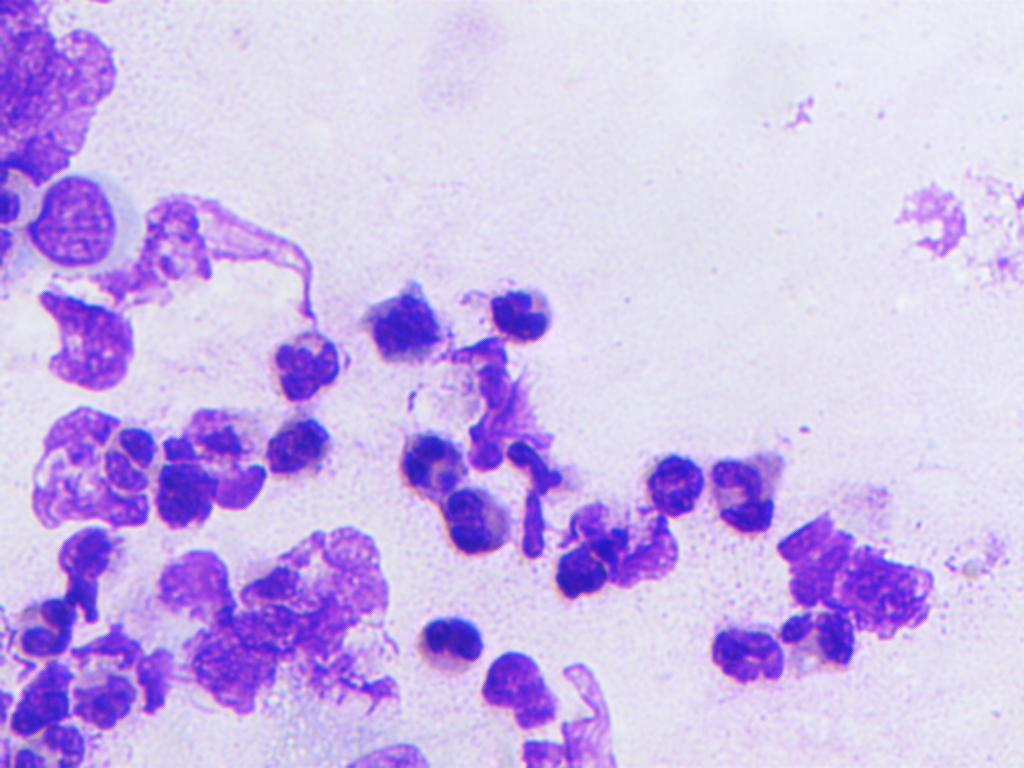epithelial: (21, 167, 147, 274), (360, 260, 441, 379), (704, 604, 785, 703), (260, 411, 333, 488)
neutrophil: (20, 397, 158, 530), (3, 662, 154, 768), (542, 527, 639, 621), (710, 433, 787, 541), (246, 330, 362, 401), (481, 636, 562, 737), (410, 586, 487, 677), (436, 476, 507, 568), (781, 608, 864, 678), (157, 457, 224, 541), (393, 432, 468, 502), (97, 419, 162, 496), (646, 444, 705, 528), (13, 592, 76, 668), (483, 283, 557, 347)
